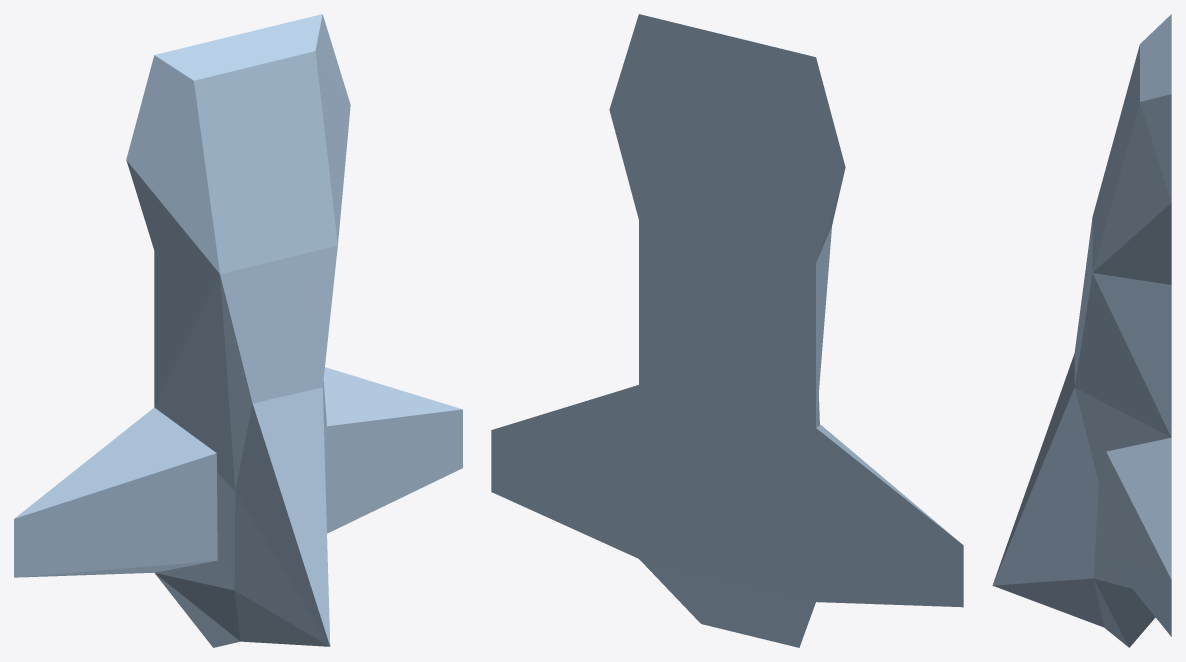
Rendered from 1.shipLOD48.obj.
3 renders of one model, left to right at view 1: azimuth 30°, elevation 25°; view 2: azimuth 150°, elevation 25°; view 3: azimuth 270°, elevation 25°, orthographic. The views are drawn at different scales.
Visible parts, largest first — view 1: 1.shipLOD48; view 2: 1.shipLOD48; view 3: 1.shipLOD48.
Part boxes in pixels (x1,y1,x2,y2): 1.shipLOD48: (14, 14, 462, 647); 1.shipLOD48: (491, 14, 963, 647); 1.shipLOD48: (992, 14, 1171, 647).
Bounding box in the file's own units: 48 × 59.9 × 17.
